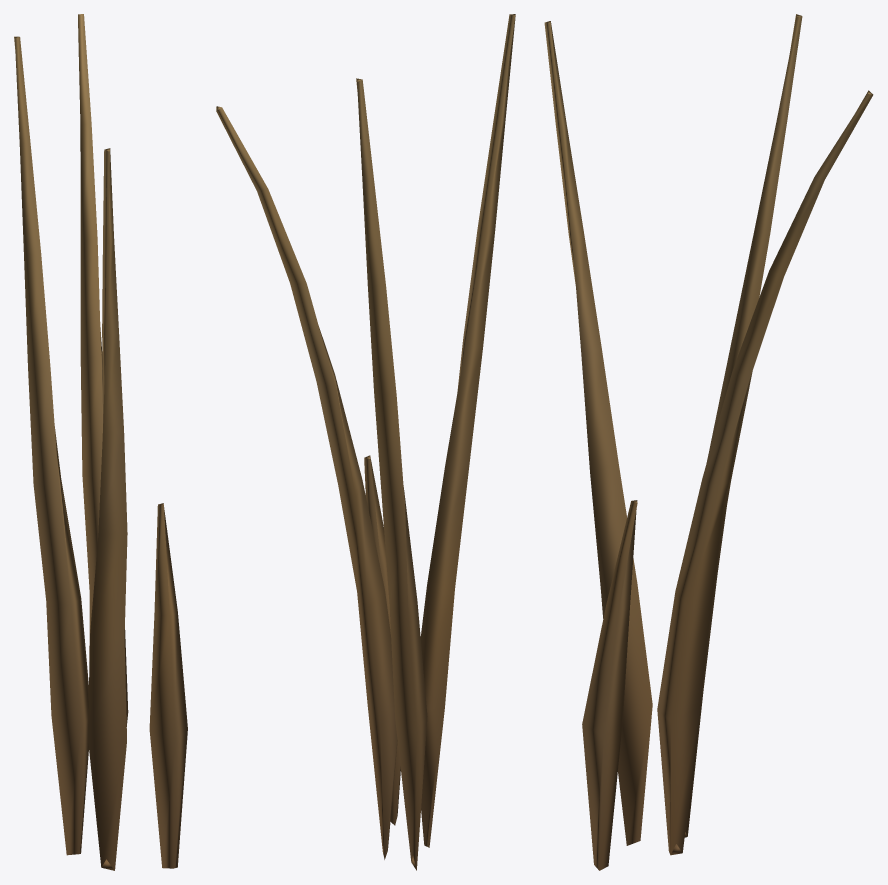
Rendered from trees-grasses-dry-grass-blades_v7.glb.
3 renders of one model, left to right at view 1: azimuth 30°, elevation 25°; view 2: azimuth 150°, elevation 25°; view 3: azimuth 270°, elevation 25°, orthographic. The views are drawn at different scales.
Visible parts, largest first — view 1: Dry Grass Blades_v7; view 2: Dry Grass Blades_v7; view 3: Dry Grass Blades_v7.
Boxes of the visible parts, <box> form: Dry Grass Blades_v7: <box>14,14,187,870</box>; Dry Grass Blades_v7: <box>216,14,515,870</box>; Dry Grass Blades_v7: <box>544,14,873,870</box>.
Bounding box in the file's own units: 0.1046 × 0.6 × 0.2175.
